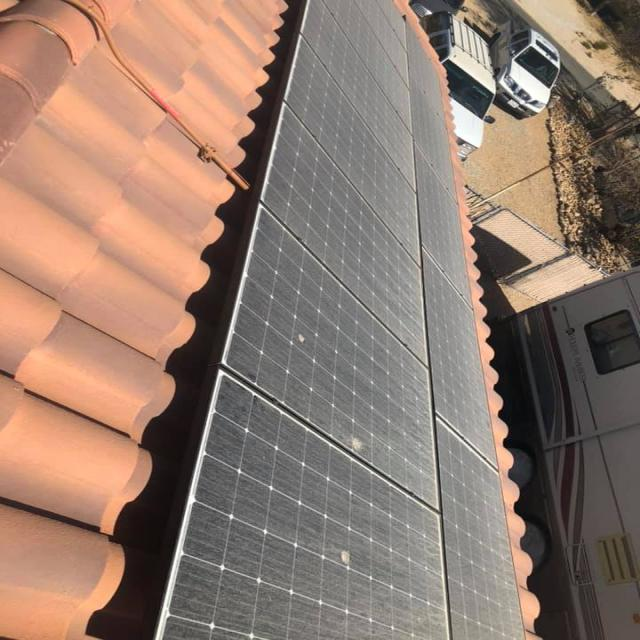dust-solar-panel: (155, 0, 530, 638)
